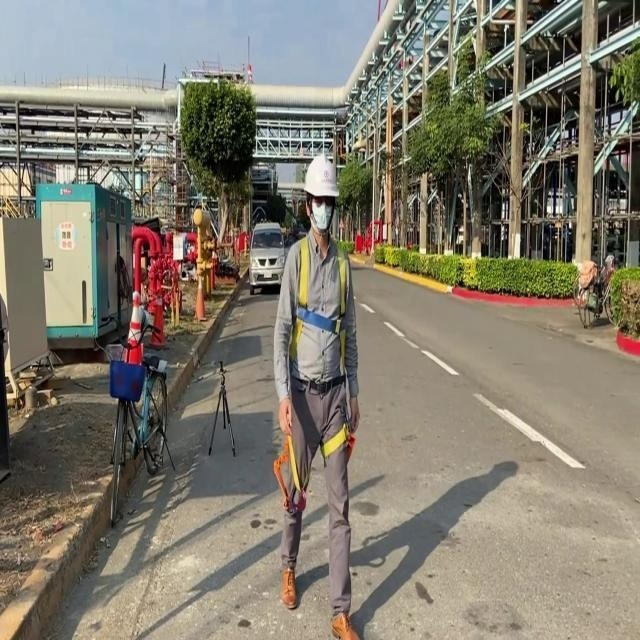Arnes_seguridad: (272, 239, 360, 482)
